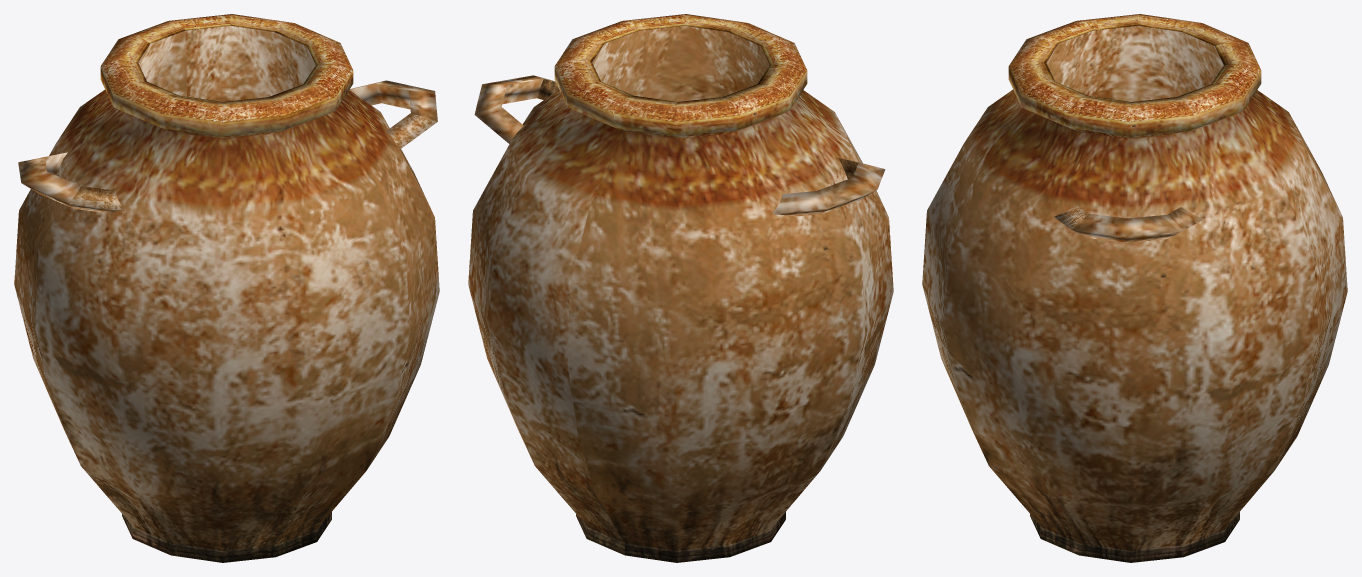
Rendered from crock4.obj.
3 views of the same model, side by side, from view 1: azimuth 30°, elevation 25°; view 2: azimuth 150°, elevation 25°; view 3: azimuth 270°, elevation 25° (orthographic).
Visible parts, largest first — view 1: crock4.obj; view 2: crock4.obj; view 3: crock4.obj.
Part boxes in pixels (box(x1,y1,x2,y2)): crock4.obj: box(14, 14, 439, 562); crock4.obj: box(468, 14, 893, 562); crock4.obj: box(922, 14, 1347, 562).
Size of the model in its own units: 25.01 by 26.97 by 22.77.
1 material, 1 textured.
